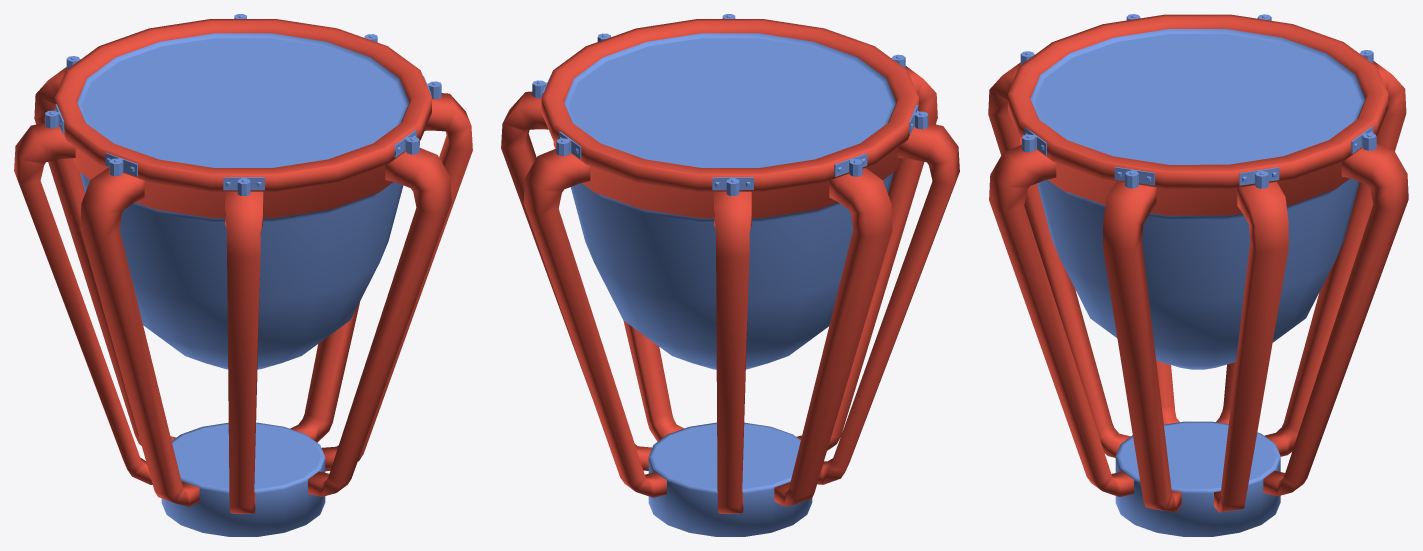
File: Timpani one object.fbx
The picture shows the model from 3 angles, left to right: view 1: azimuth 30°, elevation 25°; view 2: azimuth 150°, elevation 25°; view 3: azimuth 270°, elevation 25°; orthographic projection.
Parts seen in each view (by area): view 1: Timpani one object; view 2: Timpani one object; view 3: Timpani one object.
Part boxes in pixels (box(x1,y1,x2,y2)): Timpani one object: box(14, 14, 472, 536); Timpani one object: box(501, 14, 959, 536); Timpani one object: box(988, 14, 1408, 536).
Bounding box in the file's own units: 101 × 102 × 94.86.
